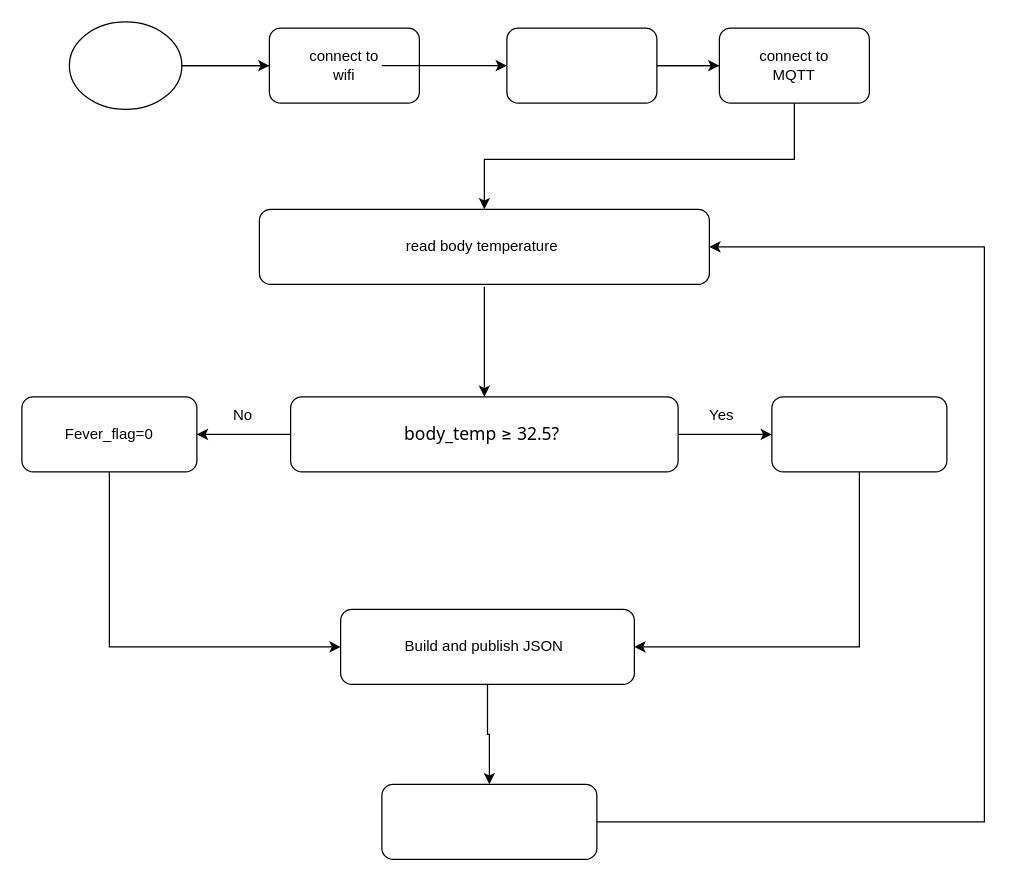
Some shapes in this 1016 by 881 pixel diagram are drawn without their labels. Here are the shapes that lost their labels. From the top down, the centre of each, then its label:
At pixel 125 65: "start".
At pixel 581 65: "Init I2C".
At pixel 489 821: "wait 1 second".
